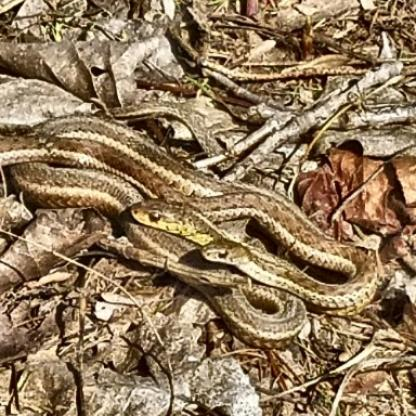Snake: (0, 116, 390, 348), (201, 240, 379, 333), (131, 182, 230, 261)
